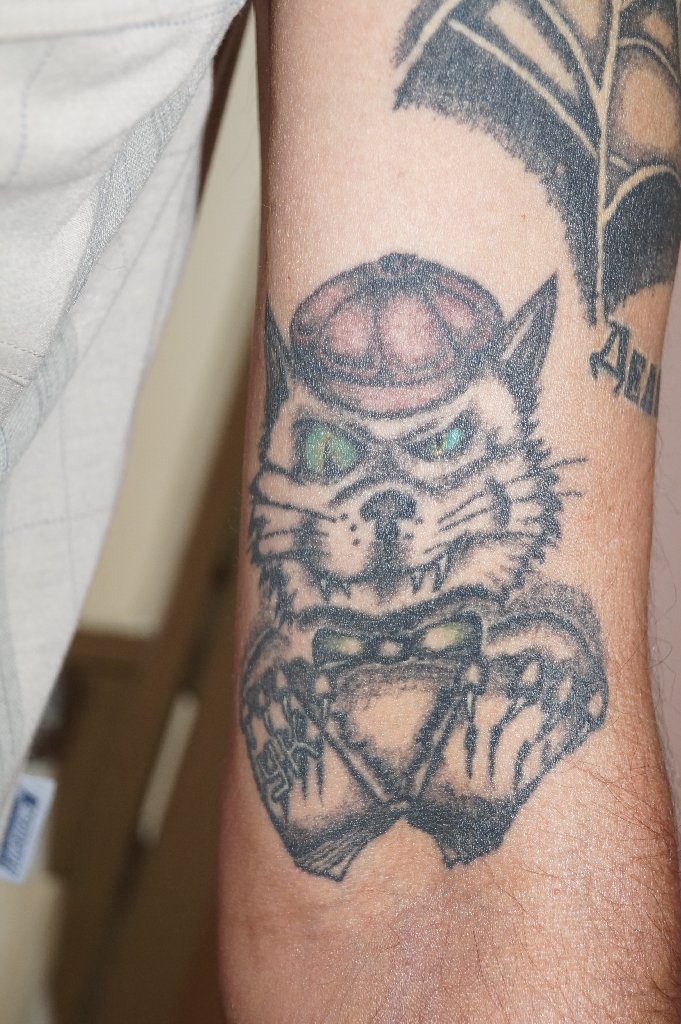tatu8_kot: (218, 239, 623, 859)
